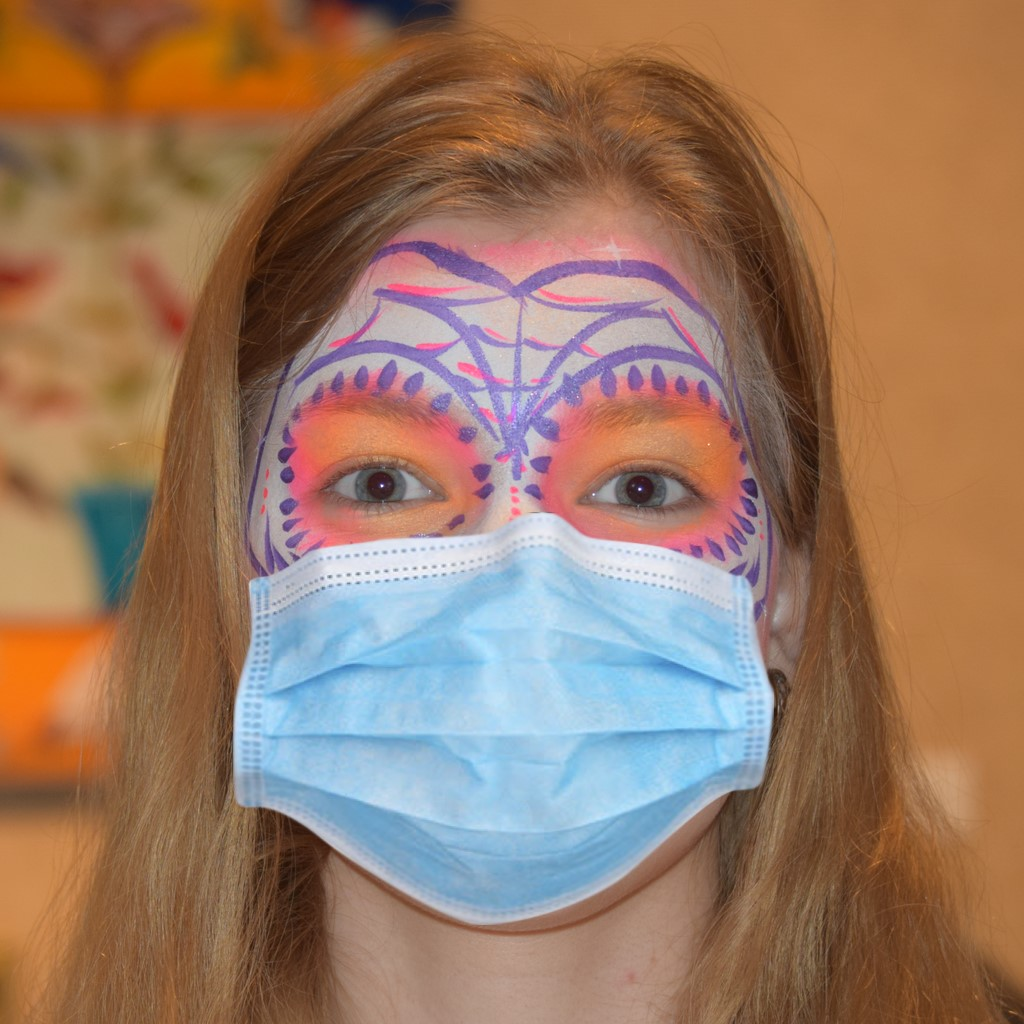con_mascara: (230, 118, 802, 941)
